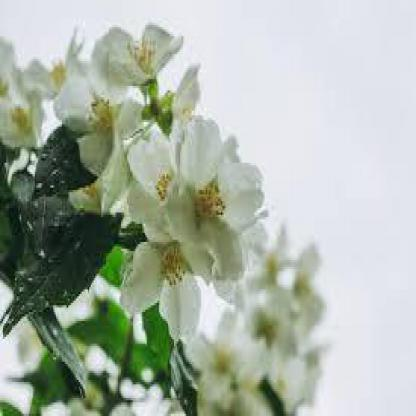Melati: (13, 5, 343, 399)
